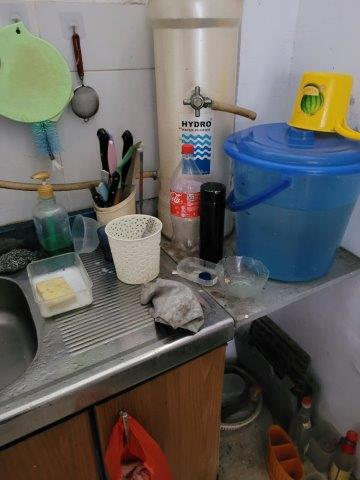botolplastik: (167, 144, 204, 253)
